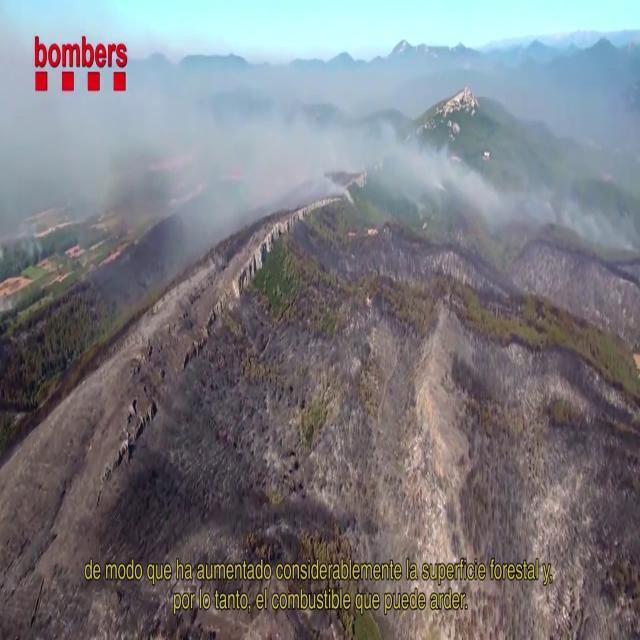Smoke: (0, 2, 322, 270)
